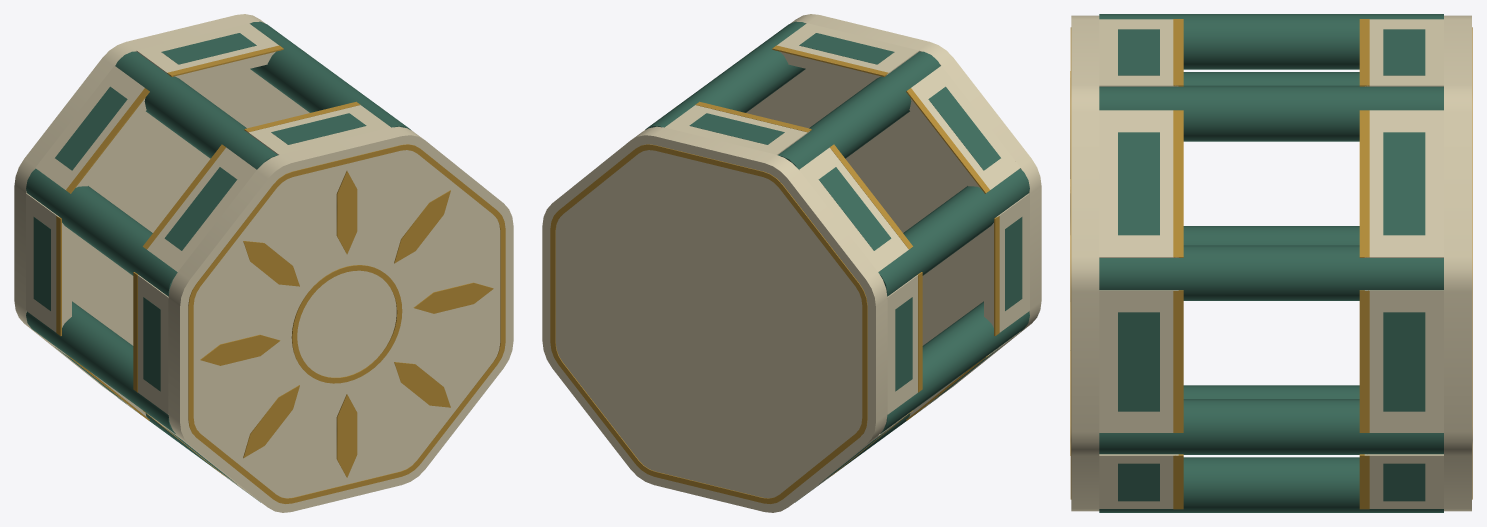
The model's file is h12_housing.obj.
The picture shows the model from 3 angles, left to right: view 1: azimuth 30°, elevation 25°; view 2: azimuth 150°, elevation 25°; view 3: azimuth 270°, elevation 25°; orthographic projection. The views are drawn at different scales.
Parts seen in each view (by area): view 1: h12_housing; view 2: h12_housing; view 3: h12_housing.
Part boxes in pixels (left/top/right/bottom): h12_housing: left=14, top=14, right=513, bottom=512; h12_housing: left=542, top=14, right=1041, bottom=512; h12_housing: left=1070, top=14, right=1472, bottom=512.
Size of the model in its own units: 3.18 by 3.18 by 2.74.
